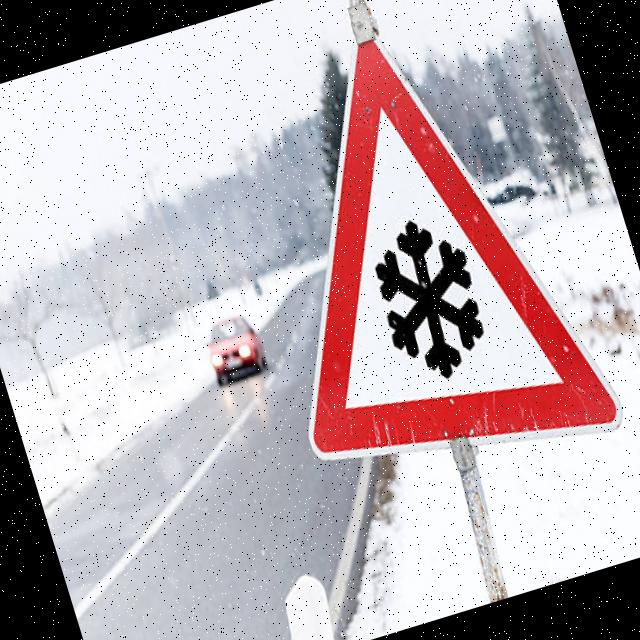snow_warning: (191, 0, 640, 525)
